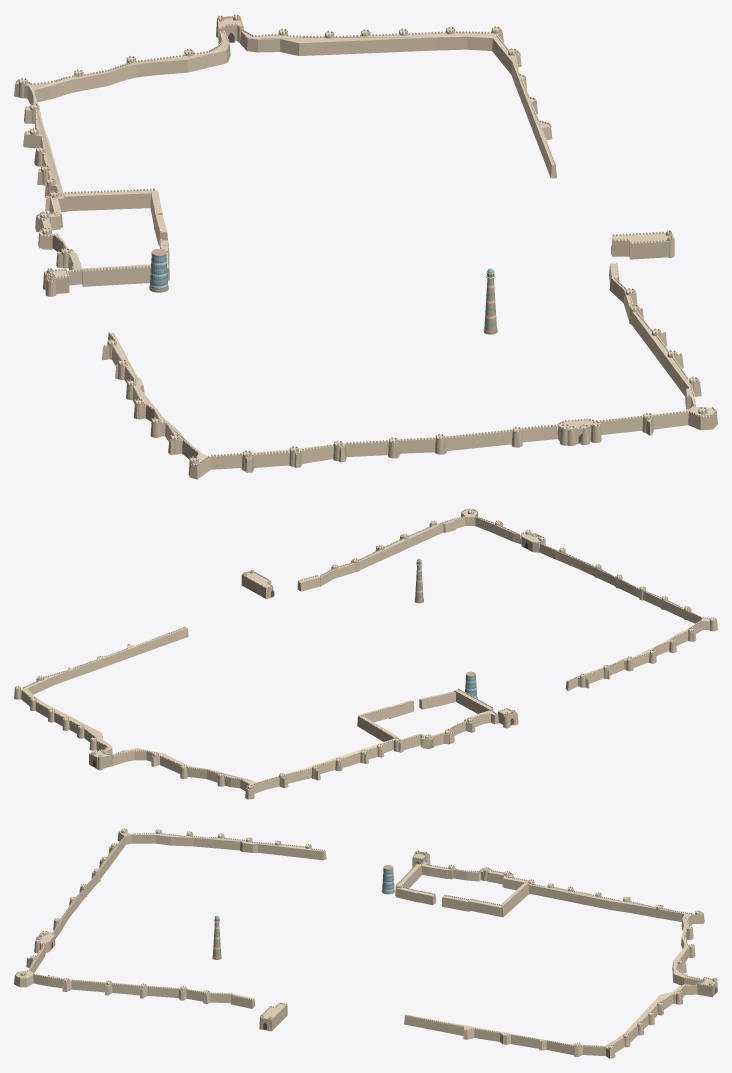
The model's file is hiva.glb.
3 renders of one model, top to bottom at view 1: azimuth 30°, elevation 25°; view 2: azimuth 150°, elevation 25°; view 3: azimuth 270°, elevation 25°, orthographic. The views are drawn at different scales.
Parts seen in each view (by area): view 1: hiva; view 2: hiva; view 3: hiva.
Part boxes in pixels (x1,y1,x2,y2): hiva: [14, 14, 717, 479]; hiva: [14, 508, 717, 799]; hiva: [14, 828, 717, 1058].
Bounding box in the file's own units: 594 × 57.73 × 797.
